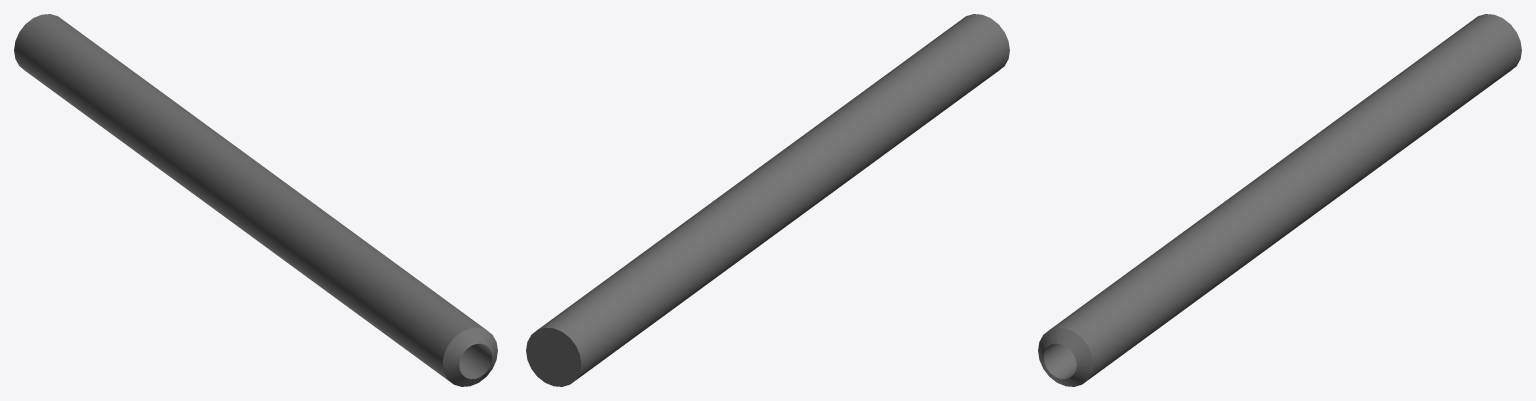
The model's file is muzzle02.fbx.
The picture shows the model from 3 angles, left to right: view 1: azimuth 30°, elevation 25°; view 2: azimuth 150°, elevation 25°; view 3: azimuth 330°, elevation 25°; orthographic projection.
Visible parts, largest first — view 1: muzzle; view 2: muzzle; view 3: muzzle.
Part boxes in pixels (bbox=[...]): muzzle: bbox=[14, 14, 497, 386]; muzzle: bbox=[526, 14, 1009, 386]; muzzle: bbox=[1038, 14, 1521, 386].
Size of the model in its own units: 13.89 by 13.89 by 189.
